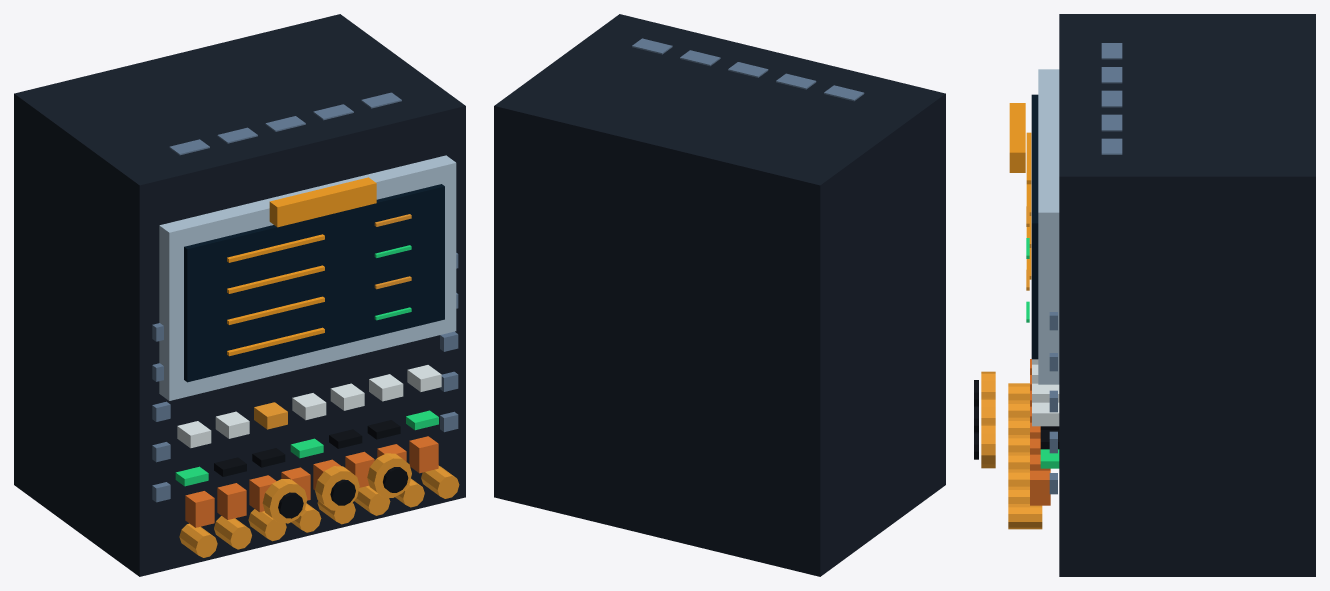
File: 50_L89_ThermalWaterResourceGuard.fbx
3 renders of one model, left to right at view 1: azimuth 30°, elevation 25°; view 2: azimuth 150°, elevation 25°; view 3: azimuth 270°, elevation 25°, orthographic. The views are drawn at different scales.
Parts seen in each view (by area): view 1: L87_ThermalWaterResourceGuard_Part_0000, L87_ThermalWaterResourceGuard_Part_0002, L87_ThermalWaterResourceGuard_Part_0001, L87_ThermalWaterResourceGuard_Part_0004, L87_ThermalWaterResourceGuard_Part_0009, L87_ThermalWaterResourceGuard_Part_0008, L87_ThermalWaterResourceGuard_Part_0006, L87_ThermalWaterResourceGuard_Part_0010, L87_ThermalWaterResourceGuard_Part_0003, L87_ThermalWaterResourceGuard_Part_0007, L87_ThermalWaterResourceGuard_Part_0005, L87_ThermalWaterResourceGuard_Part_0011 (+2 smaller); view 2: L87_ThermalWaterResourceGuard_Part_0000, L87_ThermalWaterResourceGuard_Part_0008; view 3: L87_ThermalWaterResourceGuard_Part_0000, L87_ThermalWaterResourceGuard_Part_0001, L87_ThermalWaterResourceGuard_Part_0004, L87_ThermalWaterResourceGuard_Part_0008, L87_ThermalWaterResourceGuard_Part_0002, L87_ThermalWaterResourceGuard_Part_0009, L87_ThermalWaterResourceGuard_Part_0006, L87_ThermalWaterResourceGuard_Part_0010, L87_ThermalWaterResourceGuard_Part_0003, L87_ThermalWaterResourceGuard_Part_0015, L87_ThermalWaterResourceGuard_Part_0005.
Part boxes in pixels (<box>): L87_ThermalWaterResourceGuard_Part_0000: <box>14,14,465,576</box>; L87_ThermalWaterResourceGuard_Part_0002: <box>184,184,444,382</box>; L87_ThermalWaterResourceGuard_Part_0001: <box>159,155,456,400</box>; L87_ThermalWaterResourceGuard_Part_0004: <box>179,214,459,557</box>; L87_ThermalWaterResourceGuard_Part_0009: <box>185,436,438,527</box>; L87_ThermalWaterResourceGuard_Part_0008: <box>152,92,458,502</box>; L87_ThermalWaterResourceGuard_Part_0006: <box>177,365,441,448</box>; L87_ThermalWaterResourceGuard_Part_0010: <box>269,177,376,227</box>; L87_ThermalWaterResourceGuard_Part_0003: <box>227,234,324,356</box>; L87_ThermalWaterResourceGuard_Part_0007: <box>214,420,400,476</box>; L87_ThermalWaterResourceGuard_Part_0005: <box>175,245,438,486</box>; L87_ThermalWaterResourceGuard_Part_0011: <box>262,479,307,523</box>; L87_ThermalWaterResourceGuard_Part_0000: <box>494,14,945,576</box>; L87_ThermalWaterResourceGuard_Part_0008: <box>632,38,864,101</box>; L87_ThermalWaterResourceGuard_Part_0000: <box>1059,14,1315,576</box>; L87_ThermalWaterResourceGuard_Part_0001: <box>1038,69,1059,384</box>; L87_ThermalWaterResourceGuard_Part_0004: <box>1008,206,1042,529</box>; L87_ThermalWaterResourceGuard_Part_0008: <box>1049,43,1122,494</box>; L87_ThermalWaterResourceGuard_Part_0002: <box>1031,94,1038,359</box>; L87_ThermalWaterResourceGuard_Part_0009: <box>1030,359,1050,505</box>; L87_ThermalWaterResourceGuard_Part_0006: <box>1032,359,1059,426</box>; L87_ThermalWaterResourceGuard_Part_0010: <box>1009,103,1025,172</box>; L87_ThermalWaterResourceGuard_Part_0003: <box>1026,132,1031,279</box>; L87_ThermalWaterResourceGuard_Part_0015: <box>981,423,995,468</box>; L87_ThermalWaterResourceGuard_Part_0005: <box>1026,238,1059,468</box>.
Size of the model in its own units: 112 by 129 by 99.6.
